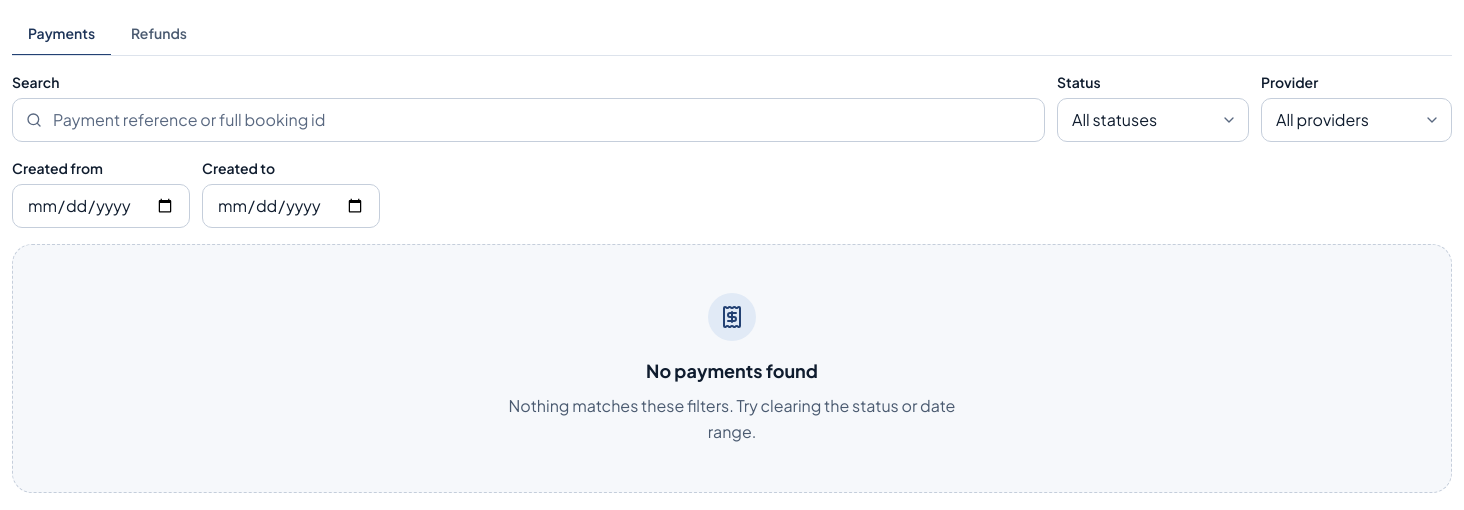
Test case: admin payments › shows refund actions by status and permission
Click the tab "Refunds". click: click(159, 34)
box: [115,12,203,56]
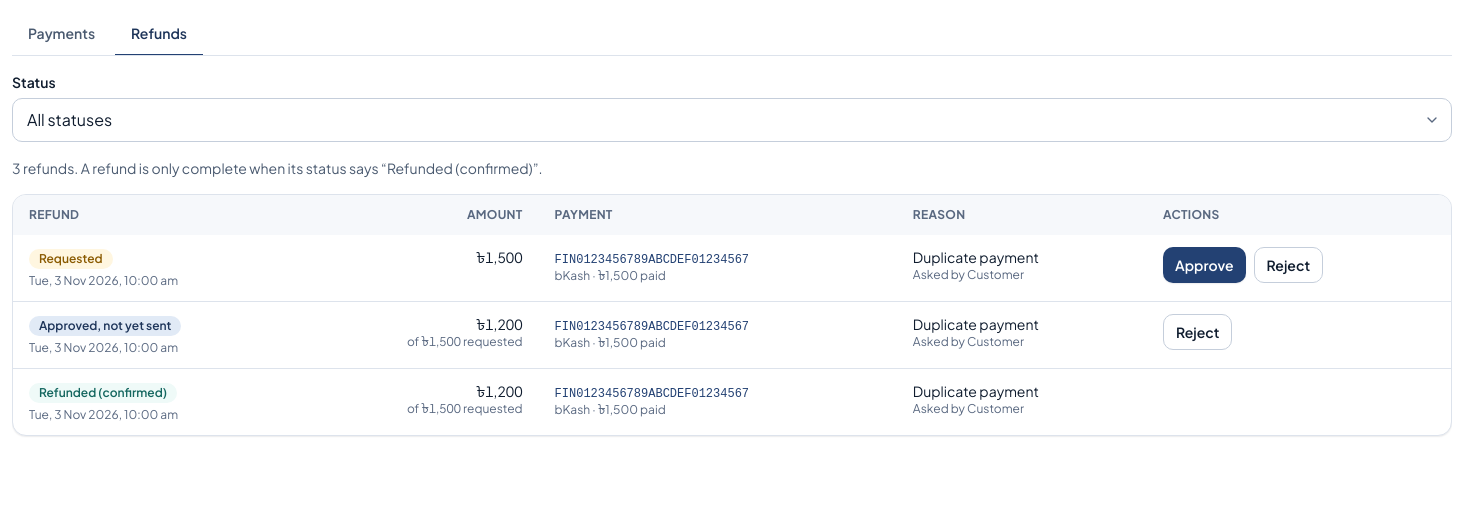
expect the button "Approve" is shown: met, box [1163,247,1246,283]
expect the number of buttons "Reject" is 2: met, box [1254,247,1323,283]; [1163,314,1232,350]
expect the text "Refunded (confirmed)" is shown: met, box [29,383,177,403]
